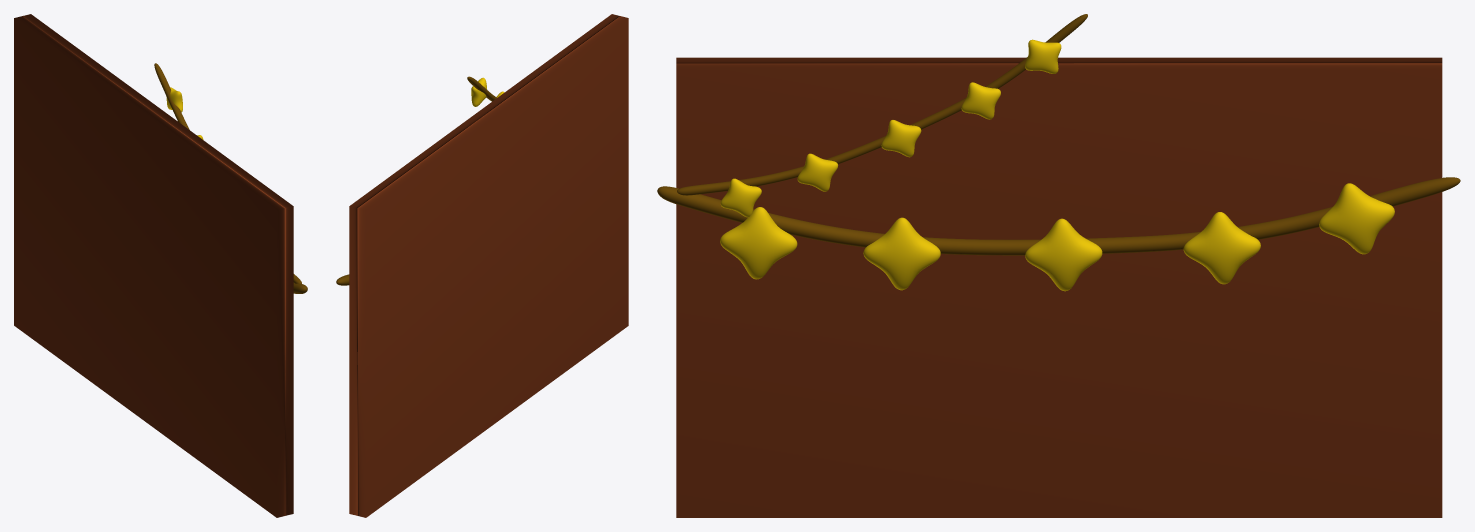
Rendered from BGMenu.fbx.
The picture shows the model from 3 angles, left to right: view 1: azimuth 30°, elevation 25°; view 2: azimuth 150°, elevation 25°; view 3: azimuth 270°, elevation 25°; orthographic projection. The views are drawn at different scales.
Visible parts, largest first — view 1: Cube, Cube.003; view 2: Cube; view 3: Cube, Cube.004, Cube.001, Cube.002, Cube.003.
Part boxes in pixels (<box>): Cube: <box>14,14,293,517</box>; Cube.003: <box>154,63,301,283</box>; Cube: <box>349,14,628,517</box>; Cube: <box>676,57,1442,517</box>; Cube.004: <box>720,183,1394,291</box>; Cube.001: <box>657,177,1460,255</box>; Cube.002: <box>720,39,1061,217</box>; Cube.003: <box>677,14,1087,195</box>.
Size of the model in its own units: 74.62 by 644 by 928.
